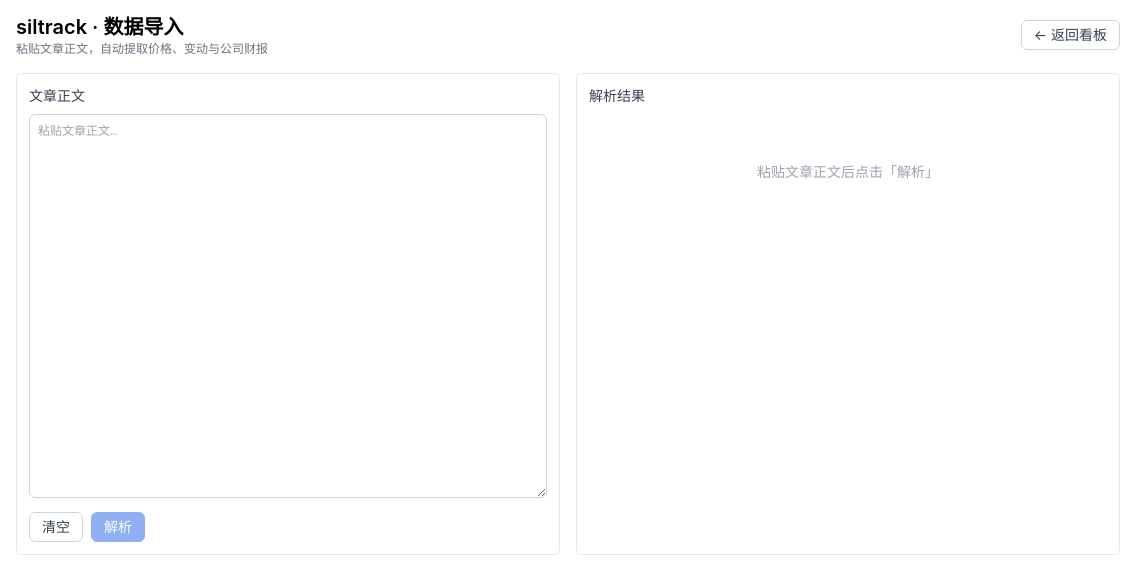
ImportPage › 清空 button resets textarea and result
Type "DMC：14700-15500元/吨； 107胶：15000-15500元/吨； （价格统计时间：4月28日）" into the text box with placeholder "粘贴文章正文…" at (288, 306), box [29, 114, 547, 498]
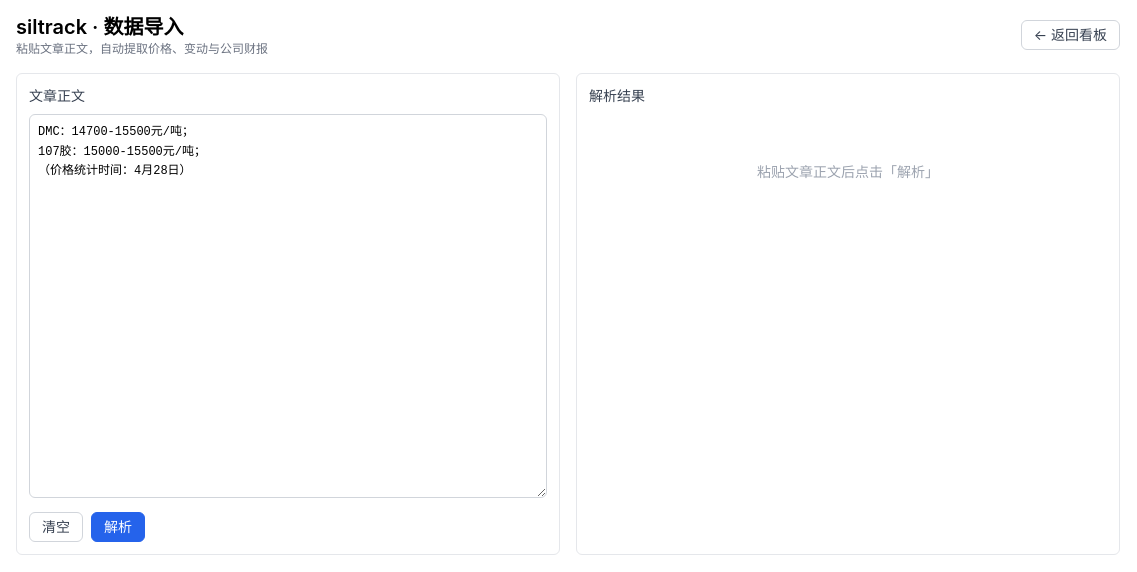
Click the button "解析" at (118, 527), box [91, 512, 145, 542]
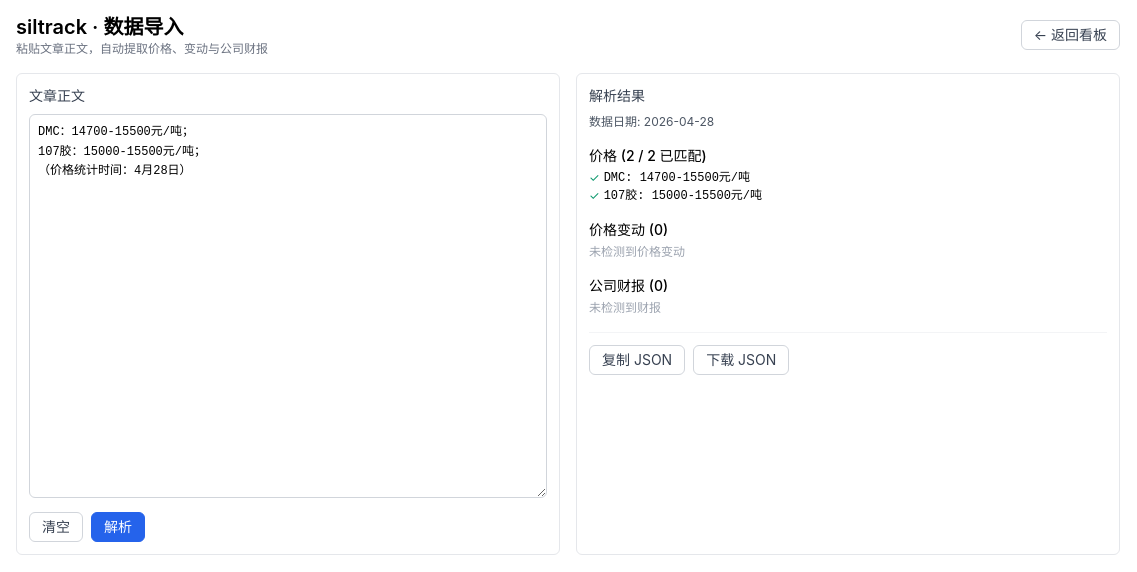
Click the button "清空" at (56, 527), box [29, 512, 83, 542]
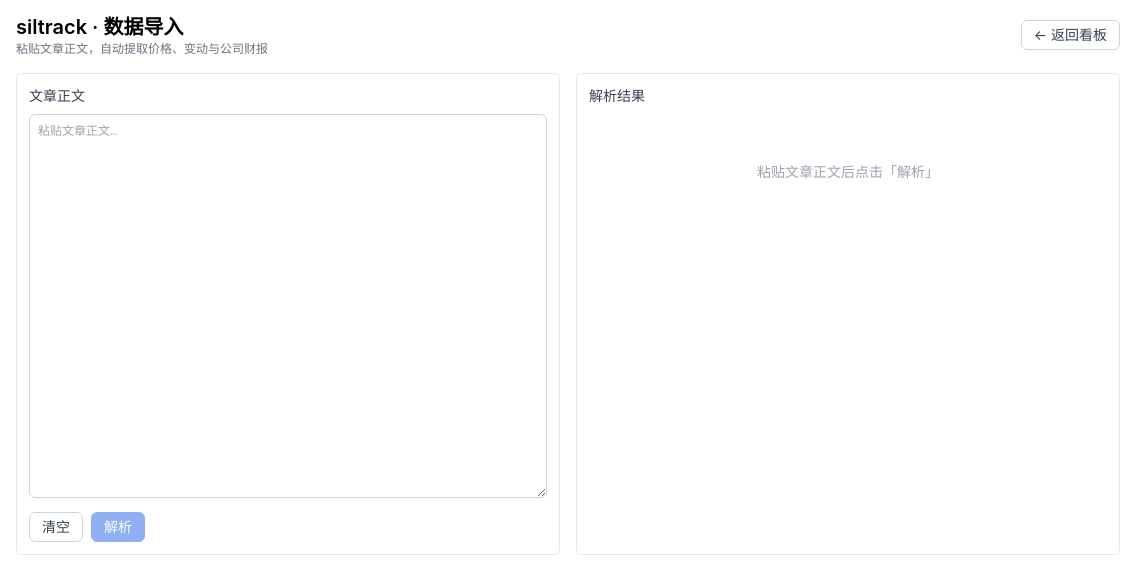
Expected: the text box with placeholder "粘贴文章正文…" is empty, [29, 114, 547, 498]
Expected: the text "粘贴文章正文后点击「解析」" is shown, [757, 163, 939, 180]
